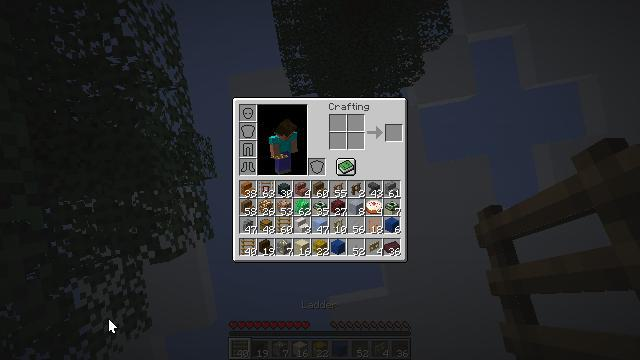cursor: (108, 318, 118, 334)
